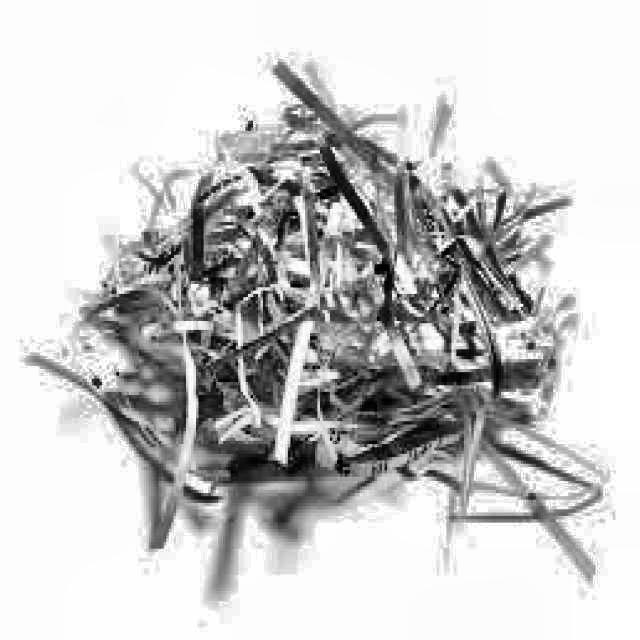Paper: (27, 52, 603, 578)
